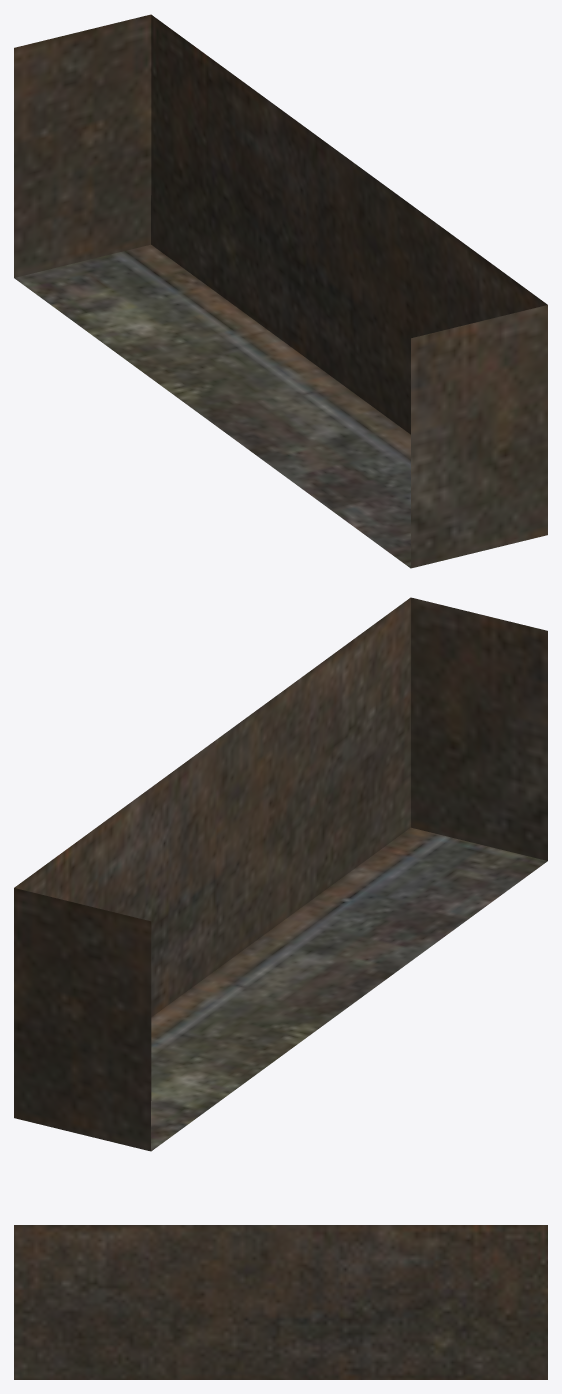
File: BalconyWallBase.FBX
3 renders of one model, top to bottom at view 1: azimuth 30°, elevation 25°; view 2: azimuth 150°, elevation 25°; view 3: azimuth 270°, elevation 25°, orthographic. The views are drawn at different scales.
Visible parts, largest first — view 1: BalconyWallBase; view 2: BalconyWallBase; view 3: BalconyWallBase.
Part boxes in pixels (<box>): BalconyWallBase: <box>14,14,547,568</box>; BalconyWallBase: <box>14,597,547,1151</box>; BalconyWallBase: <box>14,1225,547,1379</box>.
Size of the model in its own units: 95.5 by 153 by 479.
